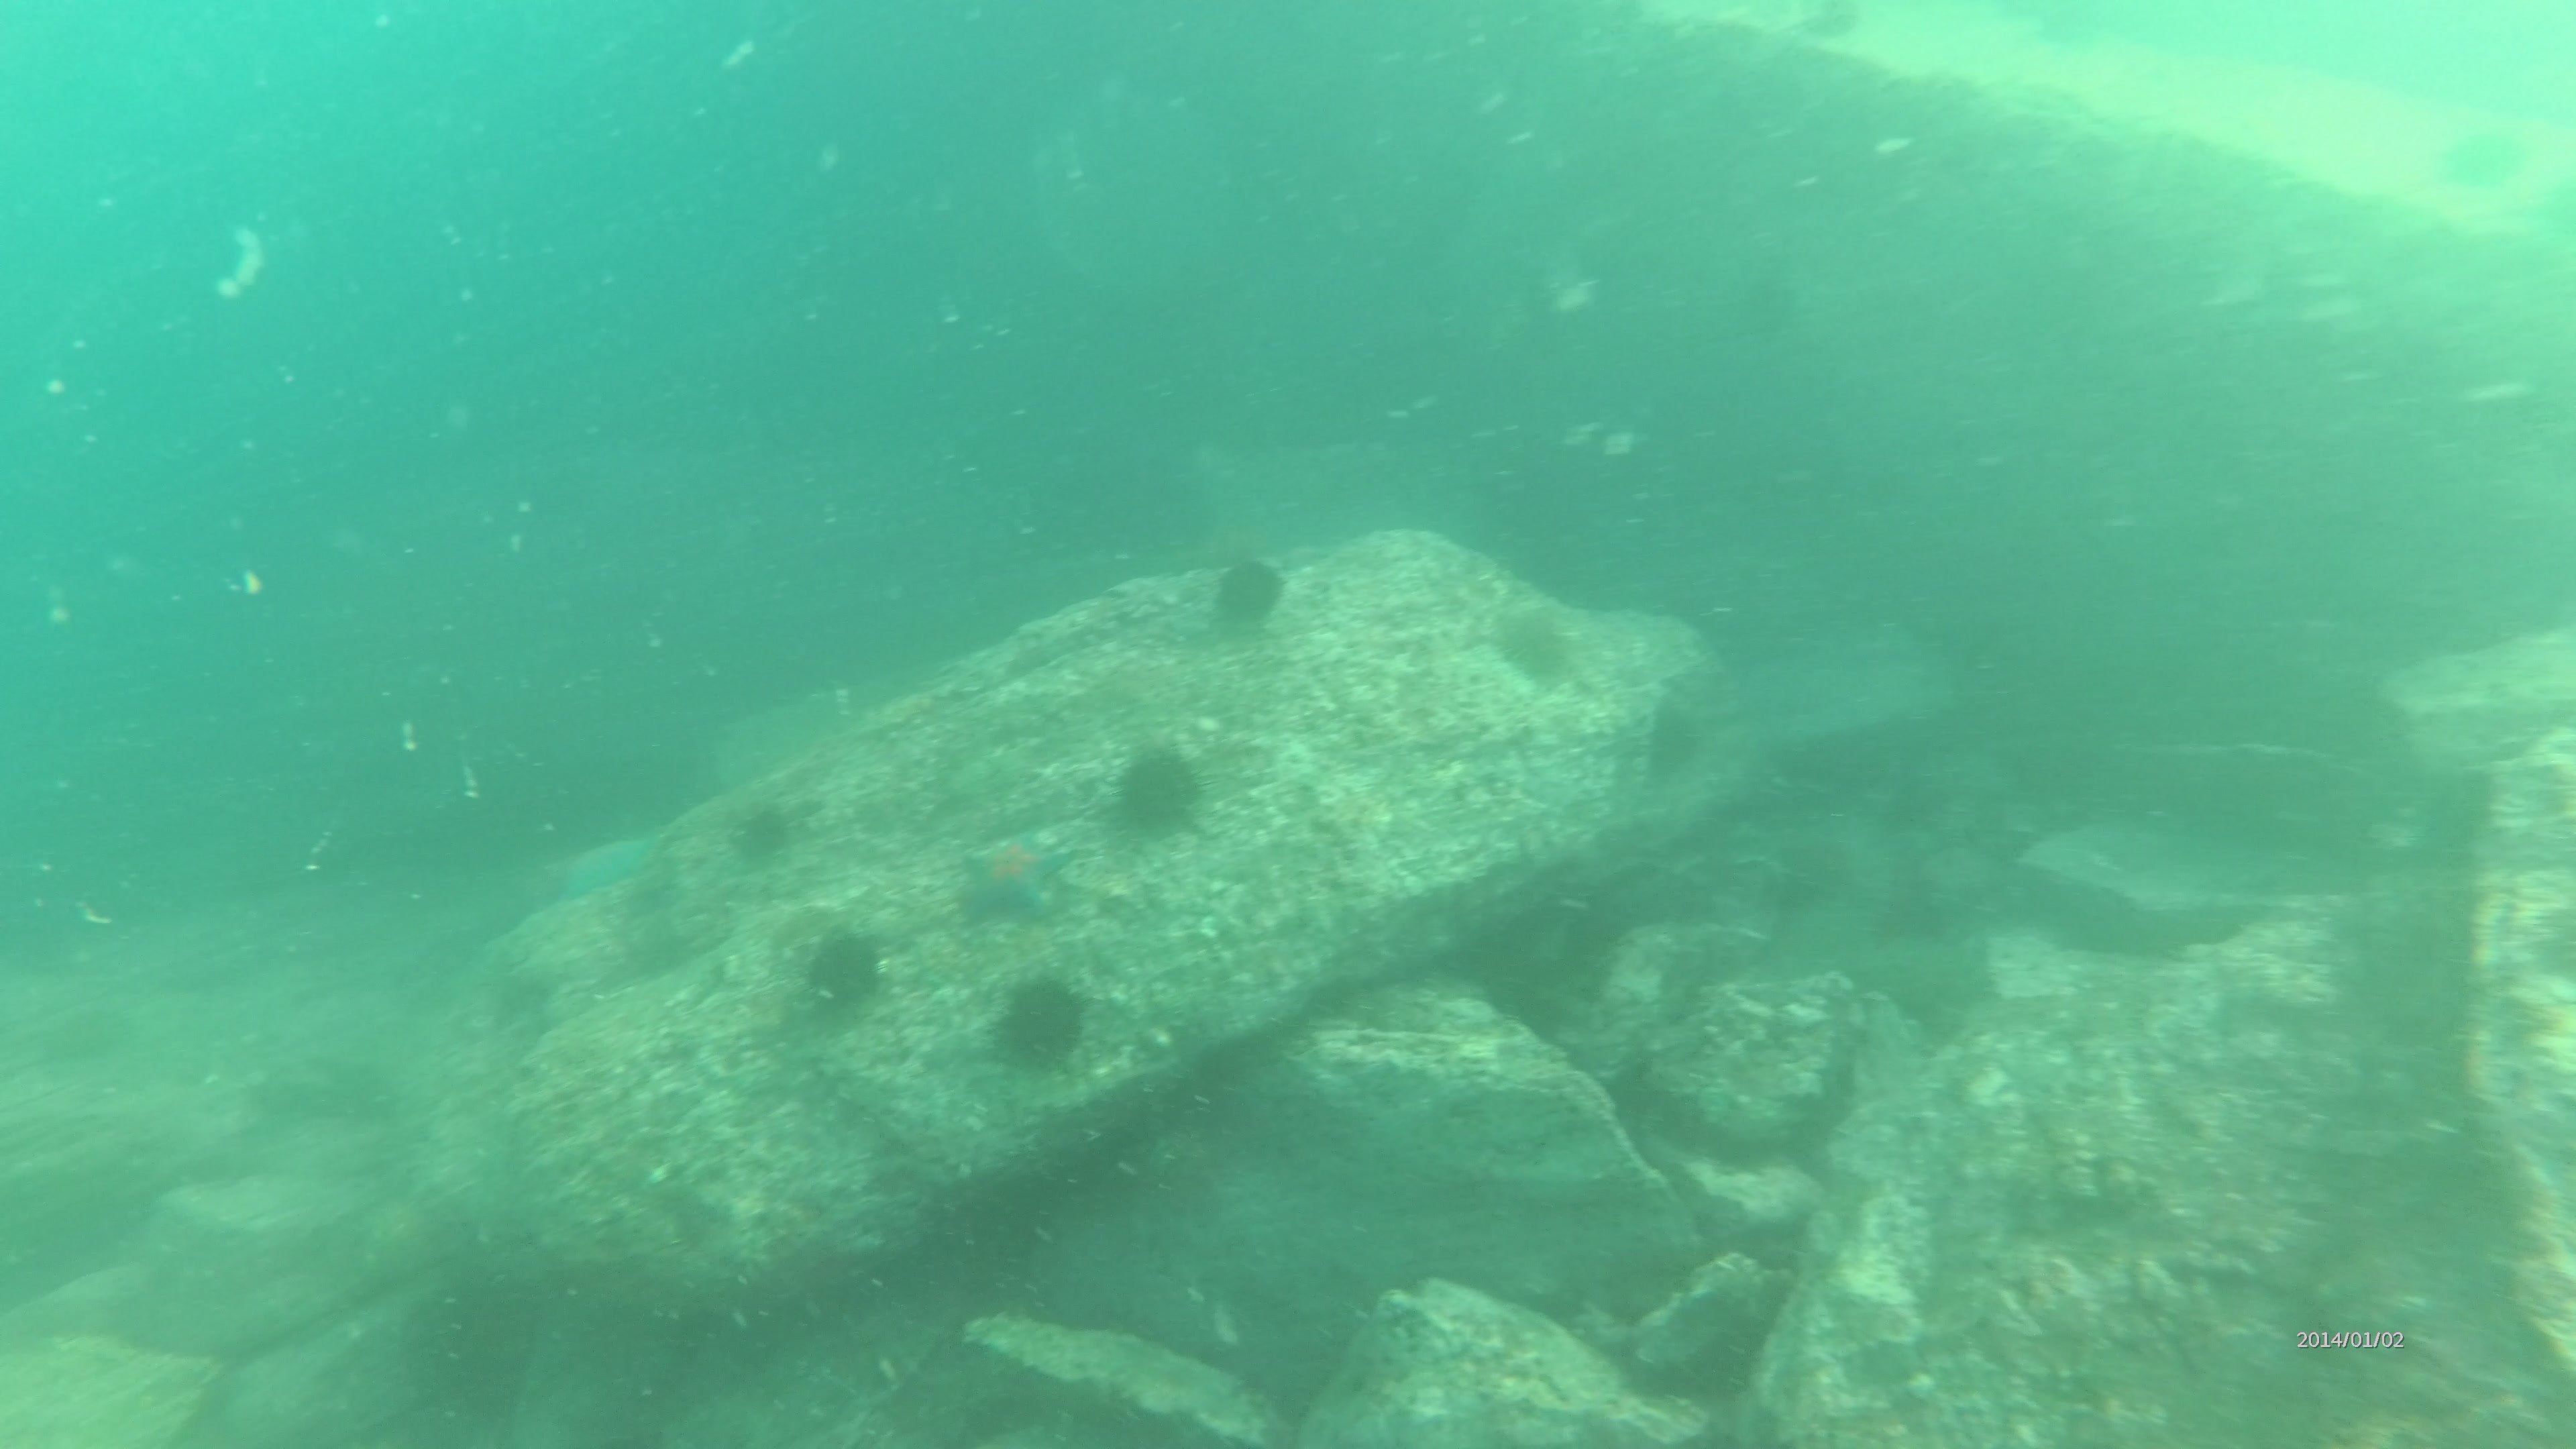echinus: (1116, 732, 1200, 835), (985, 978, 1088, 1054), (789, 924, 885, 1005), (1493, 603, 1576, 679), (722, 796, 803, 862), (1214, 561, 1276, 617)
starfish: (950, 826, 1074, 922)
